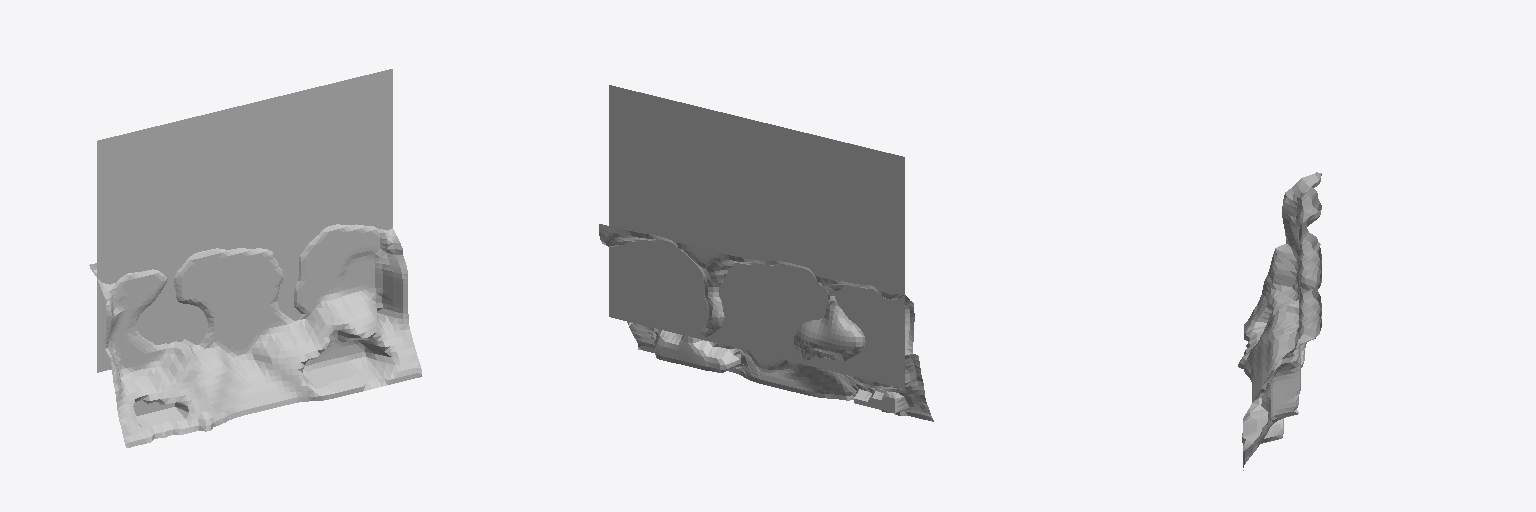
File: encounter_background.obj
3 views of the same model, side by side, from view 1: azimuth 30°, elevation 25°; view 2: azimuth 150°, elevation 25°; view 3: azimuth 270°, elevation 25° (orthographic).
Parts seen in each view (by area): view 1: Plane.005_Plane.006, Plane.002_Plane.005; view 2: Plane.005_Plane.006, Plane.002_Plane.005; view 3: Plane.002_Plane.005.
Part boxes in pixels (left/top/right/bottom): Plane.005_Plane.006: left=97, top=69, right=392, bottom=372; Plane.002_Plane.005: left=89, top=224, right=421, bottom=447; Plane.005_Plane.006: left=609, top=85, right=904, bottom=388; Plane.002_Plane.005: left=599, top=224, right=933, bottom=421; Plane.002_Plane.005: left=1238, top=172, right=1321, bottom=470.
Size of the model in its own units: 80 by 73.98 by 19.67.